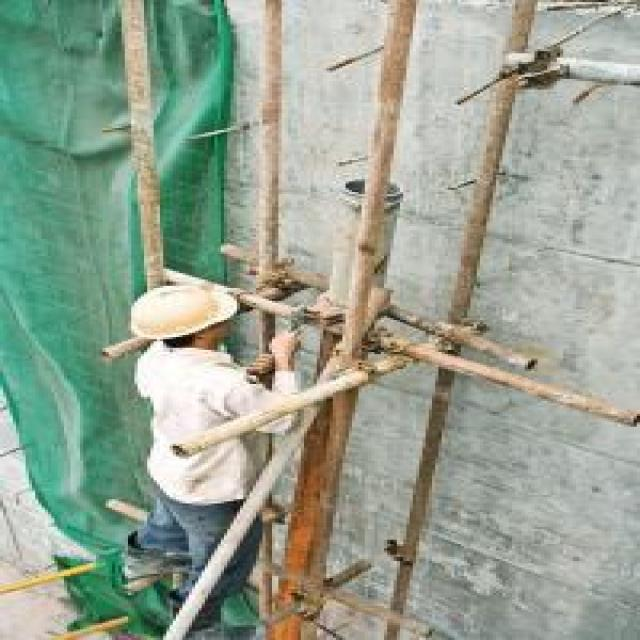hat: (112, 271, 259, 369)
